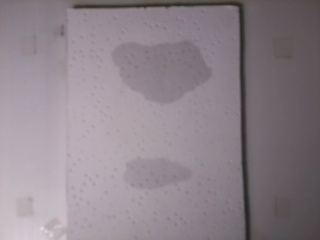Water_detected: (128, 45, 193, 86), (130, 163, 171, 193)
